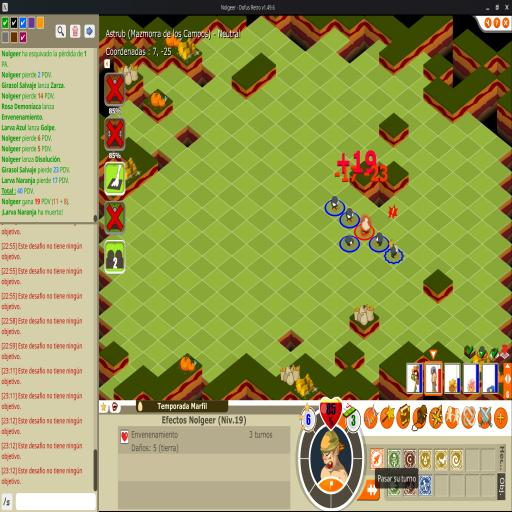Enemigos: (388, 238, 401, 259), (345, 207, 356, 225), (330, 195, 341, 212), (374, 231, 384, 247), (344, 236, 356, 247)
Personaje: (360, 216, 372, 236)
